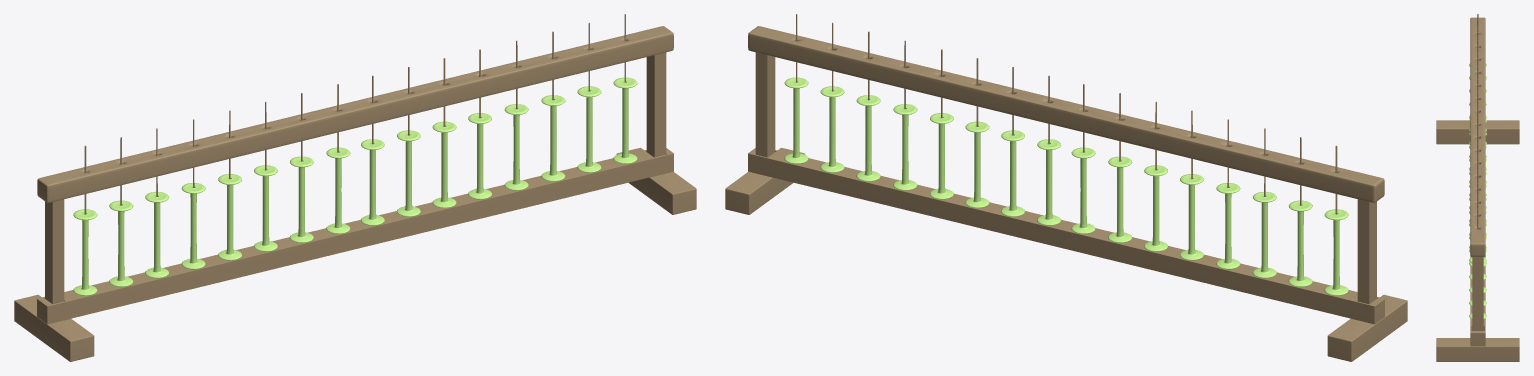
The model's file is Bobin_case.glb.
3 renders of one model, left to right at view 1: azimuth 30°, elevation 25°; view 2: azimuth 150°, elevation 25°; view 3: azimuth 270°, elevation 25°, orthographic. The views are drawn at different scales.
Parts seen in each view (by area): view 1: Bboin_Case2; view 2: Bboin_Case2; view 3: Bboin_Case2.
Part boxes in pixels (x1,y1,x2,y2): Bboin_Case2: (14, 14, 696, 361); Bboin_Case2: (725, 14, 1407, 361); Bboin_Case2: (1436, 14, 1519, 361).
Size of the model in its own units: 0.3534 by 0.0998 by 0.055.
